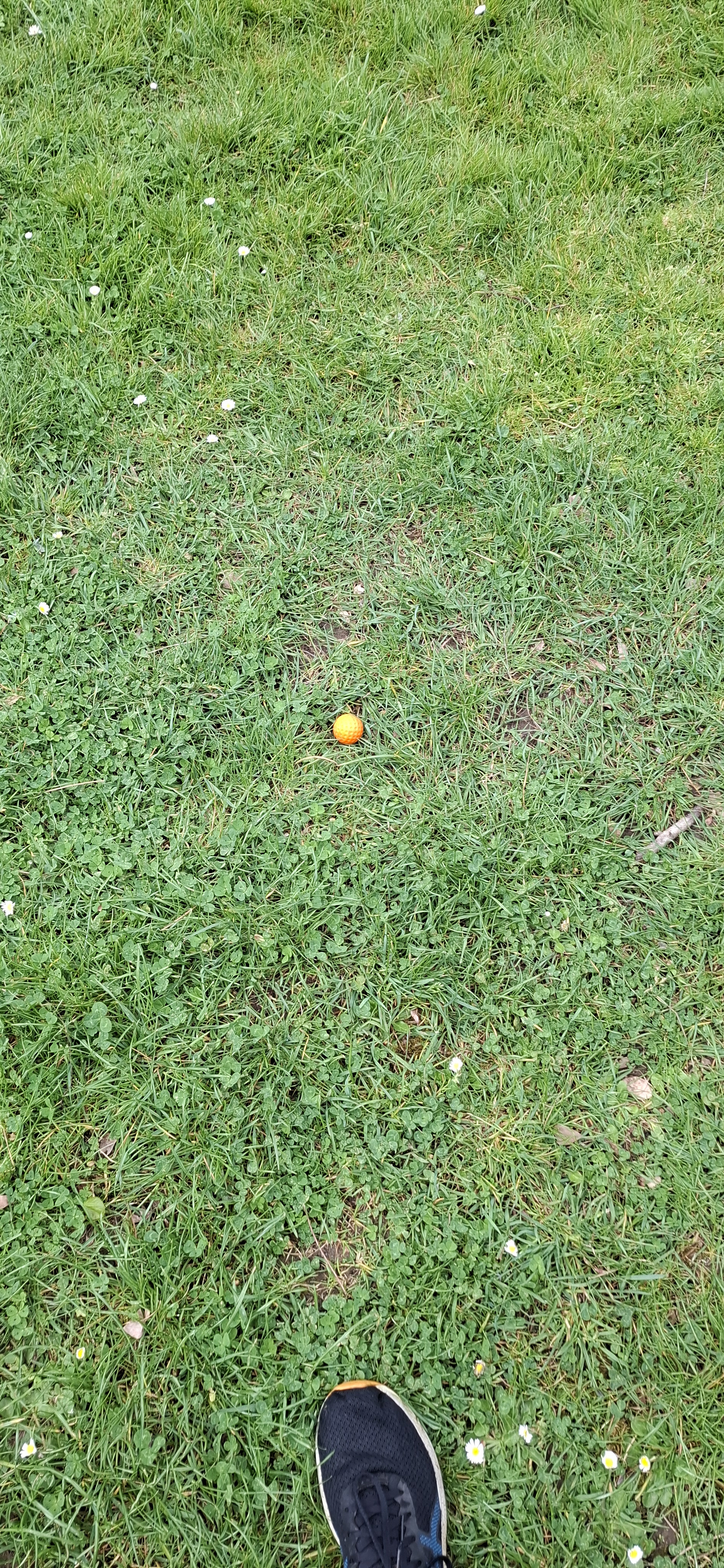ball: (330, 780, 344, 847)
